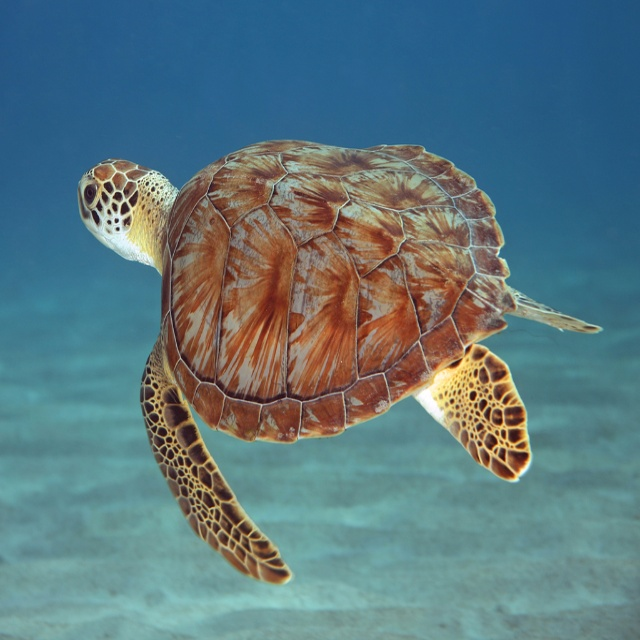Sea turtle: (75, 133, 603, 587)
